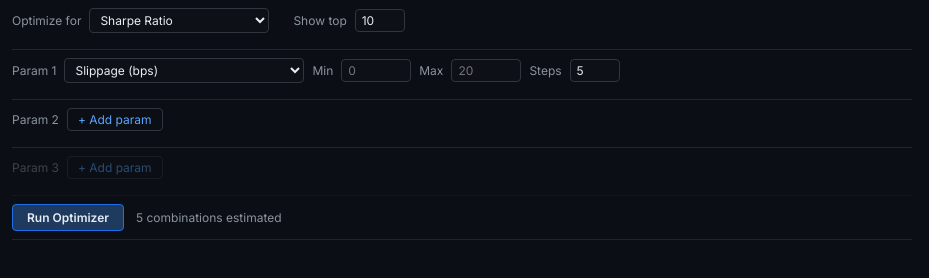
it: OptimizerPanel runOptimizer validation — ordered branches › branch 7: rejects Min greater than Max
The image size is (929, 278).
In the number field with placeholder "0": (376, 70) [341,59,411,82], type "15"
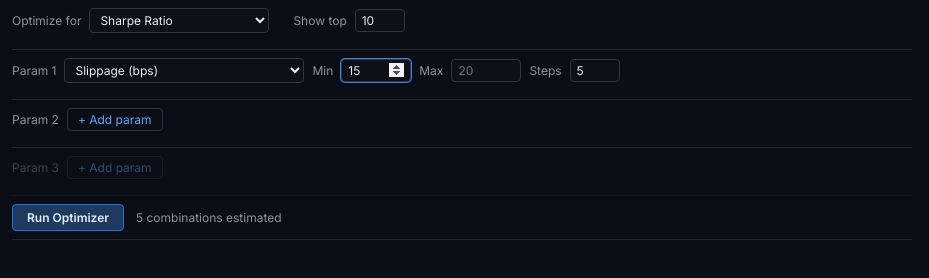
In the number field with placeholder "20": (486, 70) [451,59,521,82], type "5"
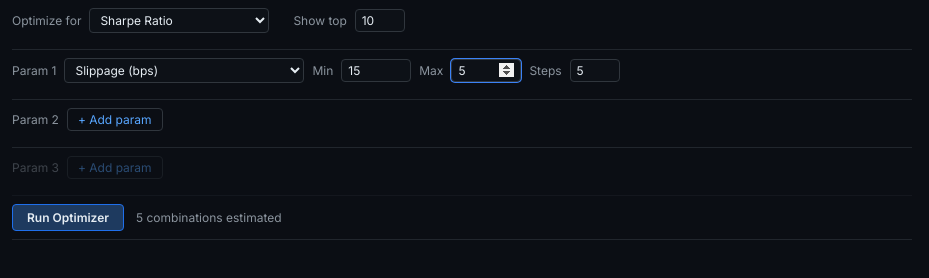
Replace the text in the 4th number field with "3": (595, 70) [570,59,620,82]
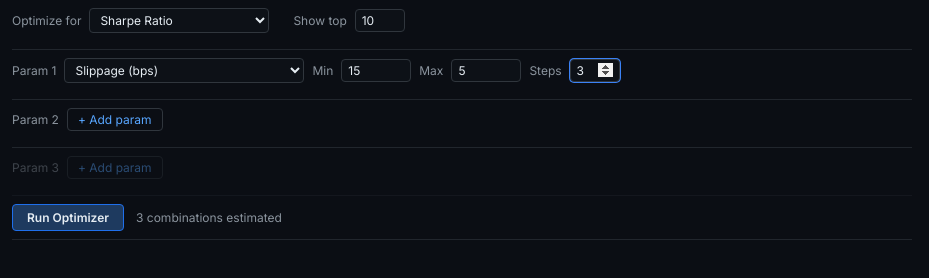
Click the button "Run Optimizer": (68, 218) [12,204,124,231]
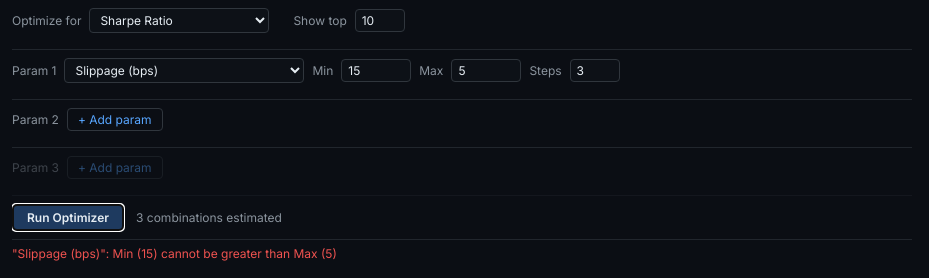
Result: the text "\"Slippage (bps)\": Min (15) cannot be greater than Max (5)" is shown at [12,246,337,261]
